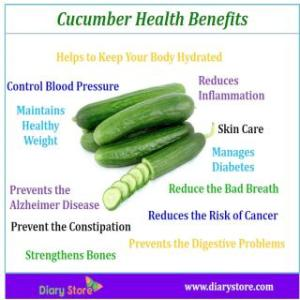cucumber: (74, 82, 186, 130), (94, 94, 196, 146), (92, 122, 194, 168), (138, 133, 206, 180), (102, 188, 120, 210), (113, 180, 129, 202), (121, 174, 136, 196), (128, 169, 142, 189)
